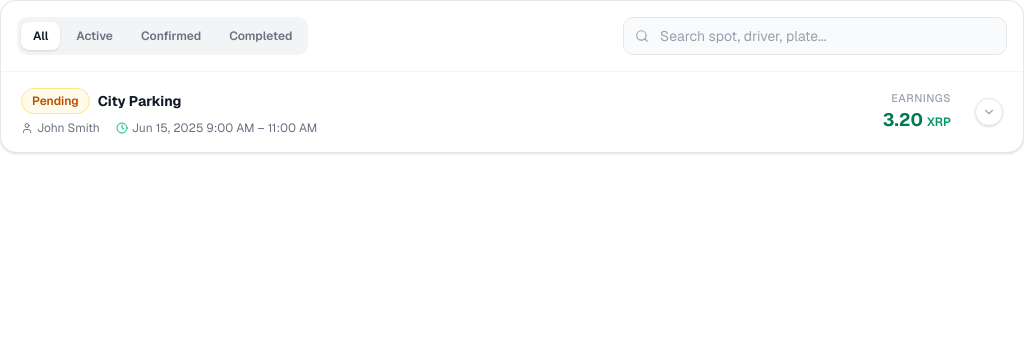
Test: BookingList Component › Row Click - Expand/Collapse › shows "Not provided" when no vehicle info
Step 1. Click the heading "City Parking" → [140, 101], box [98,91,182,111]
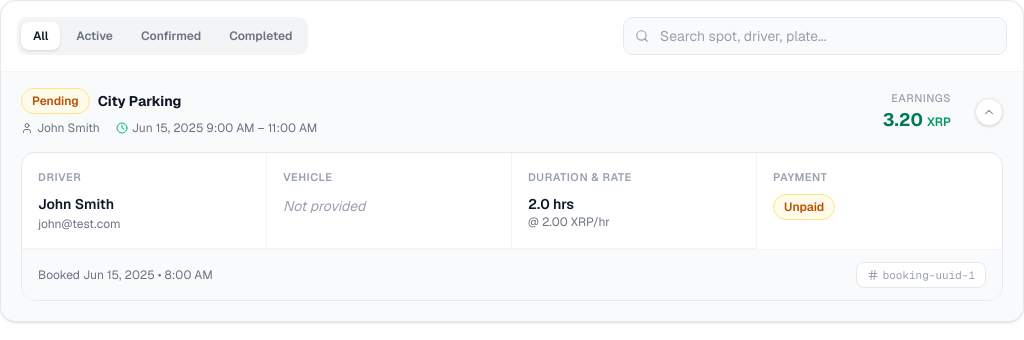
Expected: the text "Not provided" is shown, [283,196,365,214]
